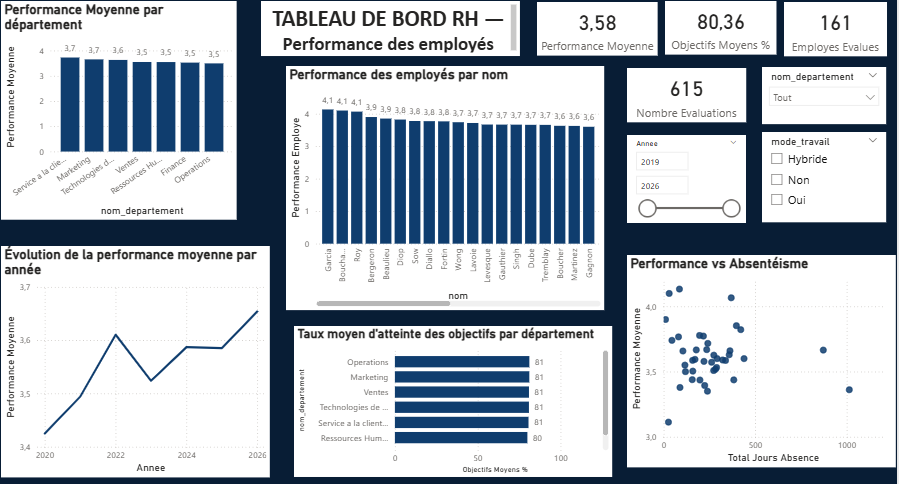

The page's visual inventory and layout, read from the dashboard file:
{"tool":"powerbi","page":{"name":"Performance","canvas":[1280,720],"ordinal":4},"visuals":[{"type":"card","fields":{"Values":["Evaluations.Performance Moyenne"]},"box":[770.4,14.4,171.4,76.3],"z":0},{"type":"card","fields":{"Values":["Evaluations.Objectifs Moyens %"]},"box":[951.8,13,158.4,76.3],"z":1000},{"type":"card","fields":{"Values":["Evaluations.Nombre Evaluations"]},"box":[898.6,107.7,168.7,76.5],"z":2000},{"type":"card","fields":{"Values":["Evaluations.Employes Evalues"]},"box":[1121.1,14.2,146,76.5],"z":3000},{"type":"clusteredColumnChart","title":"Performance Moyenne par département","fields":{"Category":["Departements.nom_departement"],"Y":["Evaluations.Performance Moyenne"]},"box":[11.3,12.8,334.5,310.4],"z":4000},{"type":"lineChart","title":"Évolution de la performance moyenne par année","fields":{"Category":["Calendrier.Annee"],"Y":["Evaluations.Performance Moyenne"]},"box":[11.8,359.5,381.3,327.6],"z":5000},{"type":"clusteredColumnChart","title":"Performance des employés par nom","fields":{"Category":["Employes.nom"],"Y":["Employes.Performance Employe"]},"box":[415.3,104.9,450.7,345.8],"z":6000},{"type":"scatterChart","title":"Performance vs Absentéisme","fields":{"X":["Absences.Total Jours Absence"],"Category":["Employes.nom"],"Y":["Evaluations.Performance Moyenne"]},"box":[898.7,372.9,381.3,300.7],"z":7000},{"type":"clusteredBarChart","title":"Taux moyen d''atteinte des objectifs par département","fields":{"Category":["Departements.nom_departement"],"Y":["Evaluations.Objectifs Moyens %"]},"box":[426.6,473.4,450.7,214],"z":8000},{"type":"slicer","fields":{"Values":["Calendrier.Annee"]},"box":[898.6,203,168.5,123.8],"z":9000},{"type":"slicer","fields":{"Values":["Departements.nom_departement"]},"box":[1090.2,105.8,176.4,80.6],"z":10000},{"type":"slicer","fields":{"Values":["Employes.mode_travail"]},"box":[1090.2,198.2,176.4,127.7],"z":11000},{"type":"textbox","box":[379.8,12.8,367.1,78],"z":12000}]}

Visuals, with their boxes on the page's 1280x720 design canvas (x1, y1, x2, y2). These are canvas units, not pixel positions in the 899x484 screenshot, which may show the page scaled, cropped or inside an application window:
card - Evaluations.Performance Moyenne: [x1=770, y1=14, x2=942, y2=91]
card - Evaluations.Objectifs Moyens %: [x1=952, y1=13, x2=1110, y2=89]
card - Evaluations.Nombre Evaluations: [x1=899, y1=108, x2=1067, y2=184]
card - Evaluations.Employes Evalues: [x1=1121, y1=14, x2=1267, y2=91]
"Performance Moyenne par département" clusteredColumnChart: [x1=11, y1=13, x2=346, y2=323]
"Évolution de la performance moyenne par année" lineChart: [x1=12, y1=360, x2=393, y2=687]
"Performance des employés par nom" clusteredColumnChart: [x1=415, y1=105, x2=866, y2=451]
"Performance vs Absentéisme" scatterChart: [x1=899, y1=373, x2=1280, y2=674]
"Taux moyen d''atteinte des objectifs par département" clusteredBarChart: [x1=427, y1=473, x2=877, y2=687]
slicer - Calendrier.Annee: [x1=899, y1=203, x2=1067, y2=327]
slicer - Departements.nom_departement: [x1=1090, y1=106, x2=1267, y2=186]
slicer - Employes.mode_travail: [x1=1090, y1=198, x2=1267, y2=326]
textbox: [x1=380, y1=13, x2=747, y2=91]
